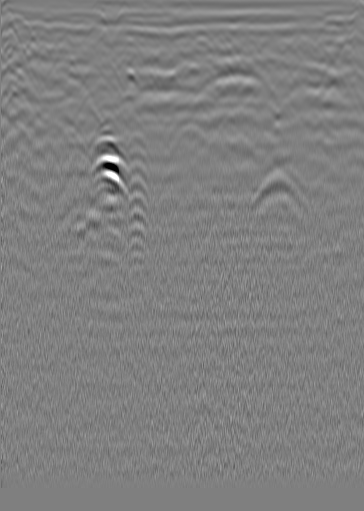가스: (84, 156, 129, 191)
상수: (342, 29, 362, 49)
우수: (194, 30, 214, 50)
